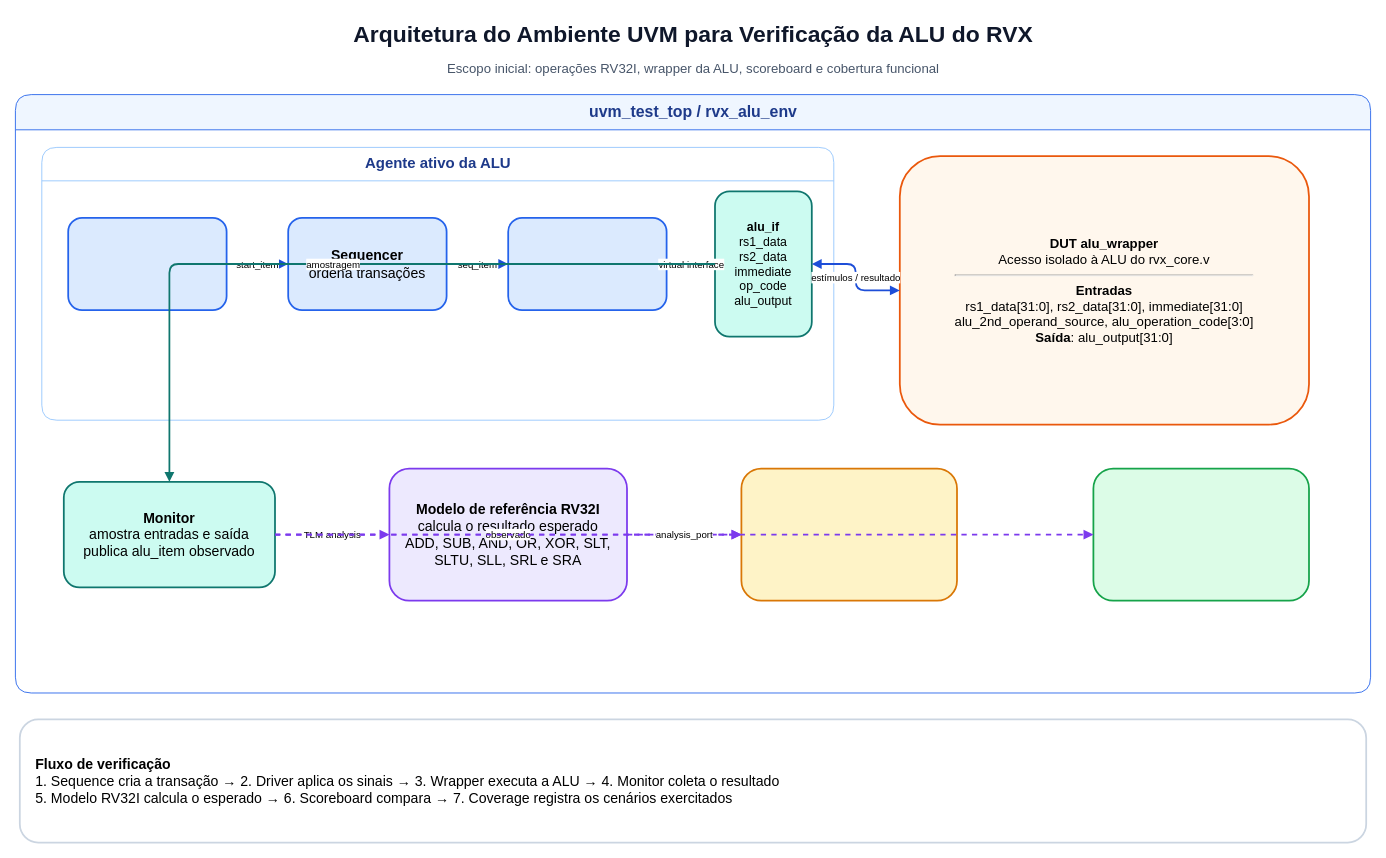
The diagram is 1386 pixels wide and 858 high, and some of its shapes have lost their labels. The centre of each missing label's shape, as x and y in pixels:
"Coverage Subscriber operação × operandos casos de borda meta mínima: 90%" belongs at point 1200,534.
"Driver aplica estímulos" belongs at point 587,263.
"Scoreboard observado × esperado PASS / FAIL" belongs at point 848,534.
"Sequence gera alu_item operandos + operação" belongs at point 147,263.
